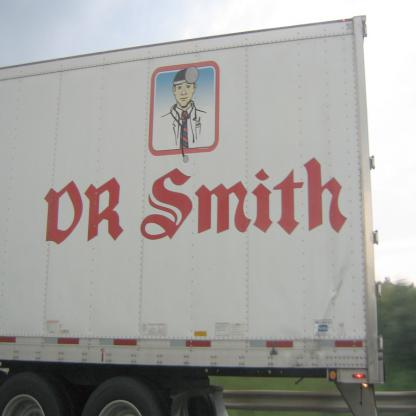Truck: (0, 19, 400, 416)
